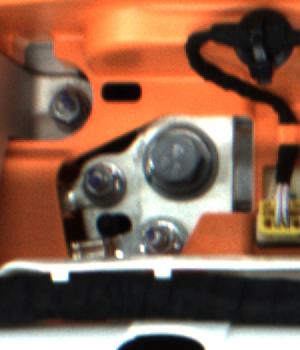nut_b: (139, 116, 219, 198)
screw_s: (46, 82, 89, 133), (80, 163, 113, 200), (142, 221, 175, 255)
